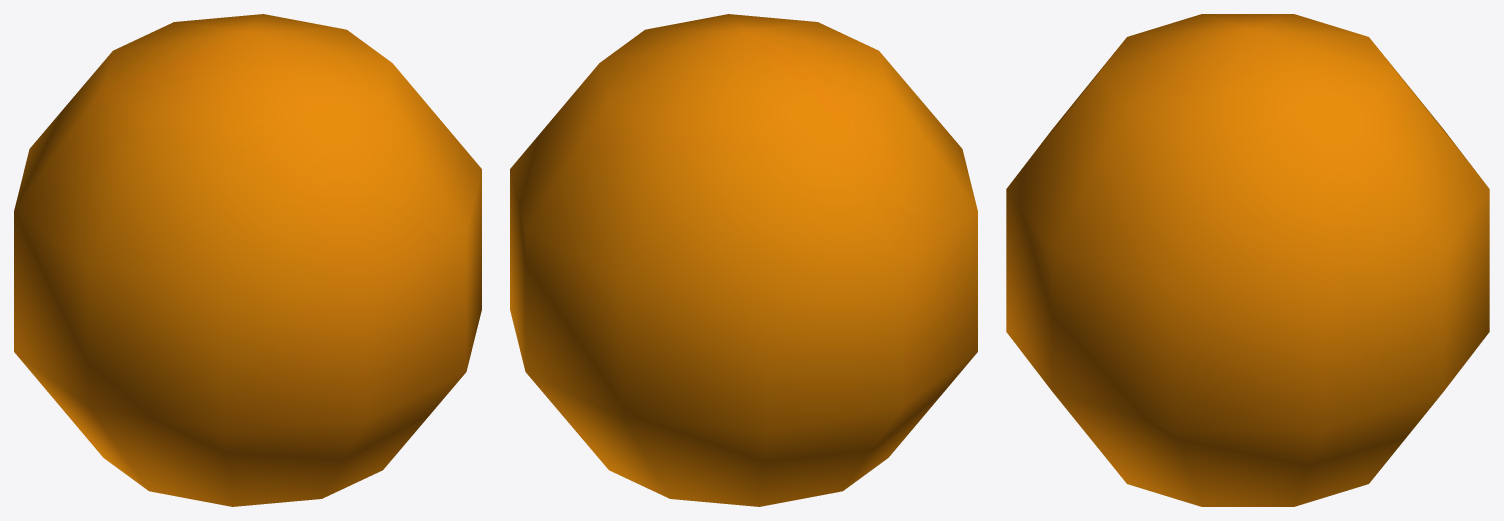
The model's file is Bogue_boule.FBX.
3 views of the same model, side by side, from view 1: azimuth 30°, elevation 25°; view 2: azimuth 150°, elevation 25°; view 3: azimuth 270°, elevation 25° (orthographic).
Visible parts, largest first — view 1: Bogue_boule; view 2: Bogue_boule; view 3: Bogue_boule.
Boxes of the visible parts, box(x1,y1,x2,y2) form: Bogue_boule: box(14, 14, 481, 506); Bogue_boule: box(510, 14, 977, 506); Bogue_boule: box(1006, 14, 1489, 506).
Bounding box in the file's own units: 0.1551 × 0.1715 × 0.1631.
